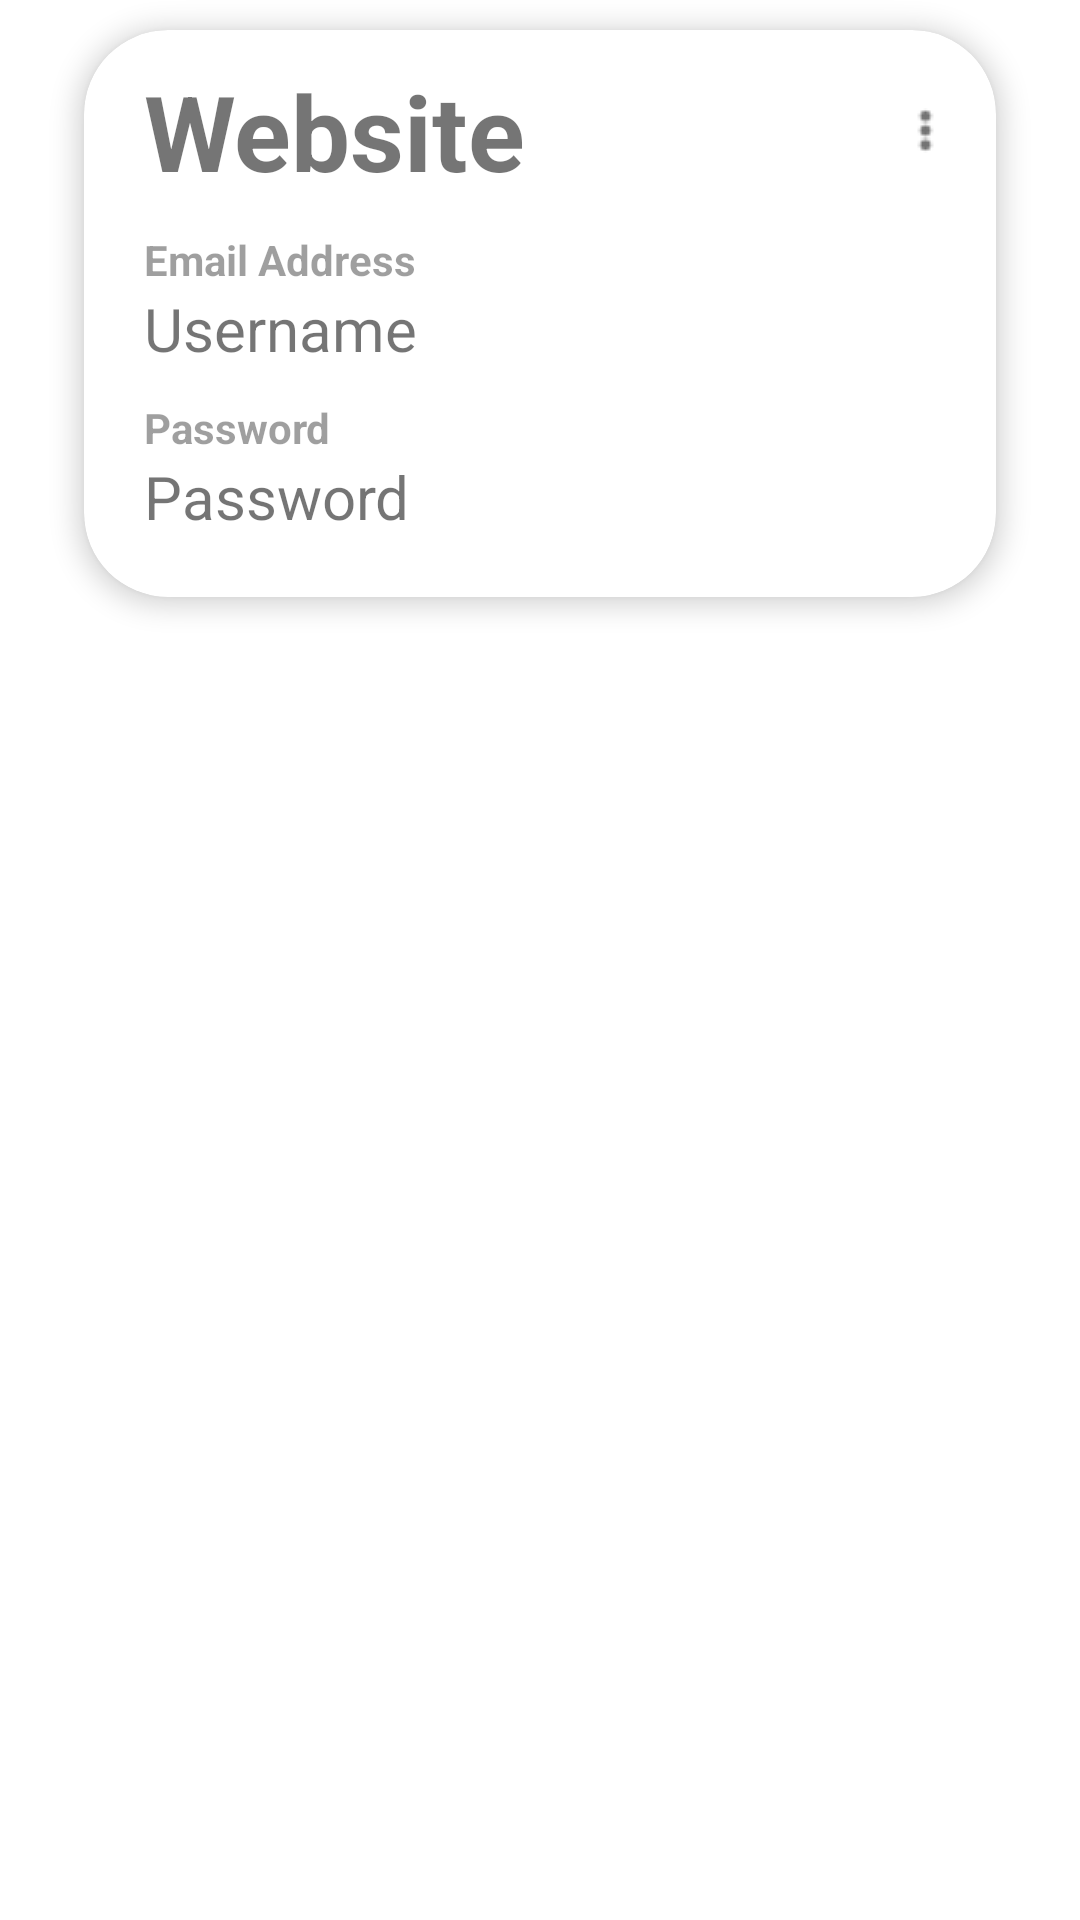

Where to tap for icons on this 1080 x 1920 app screen, as [x,y]:
menu: [925,130]
